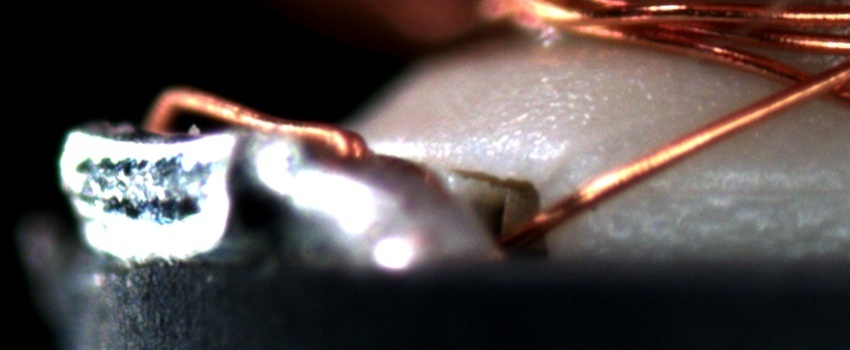CL: (767, 60, 847, 109)
DL: (649, 160, 849, 211)
TE: (128, 76, 378, 158)
